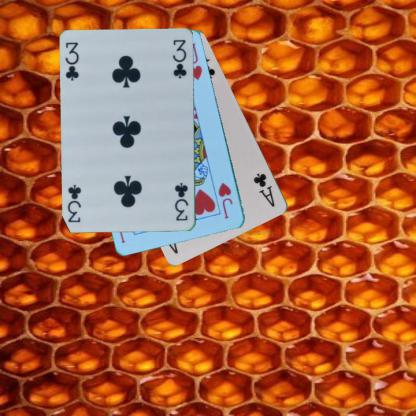3c: (172, 180, 190, 222), (62, 40, 80, 82)
Ac: (251, 170, 276, 208)
Jh: (216, 180, 234, 220)
